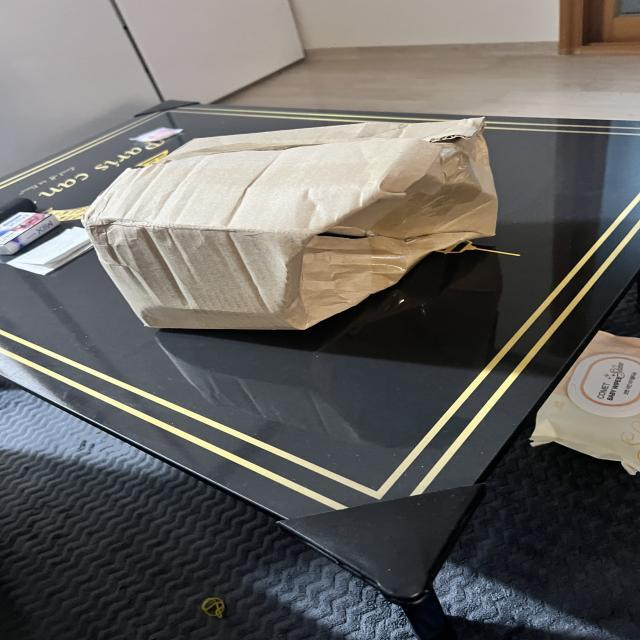box: (97, 128, 494, 329)
crushed: (283, 117, 493, 333)
